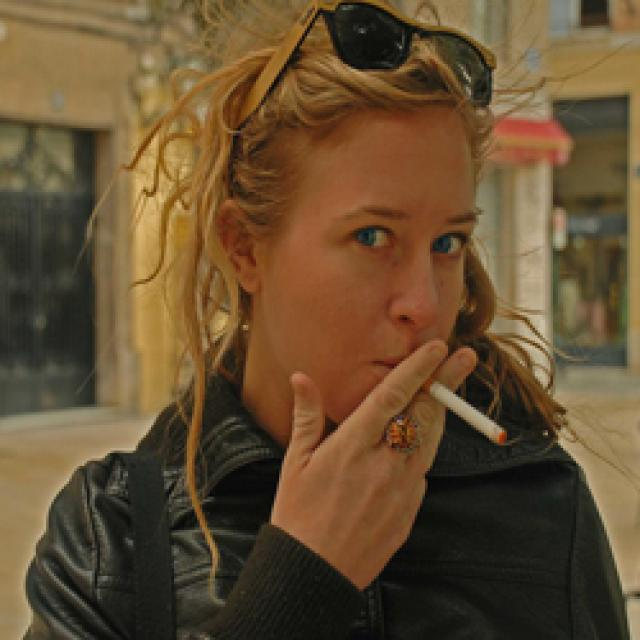Smooking: (418, 371, 520, 462)
